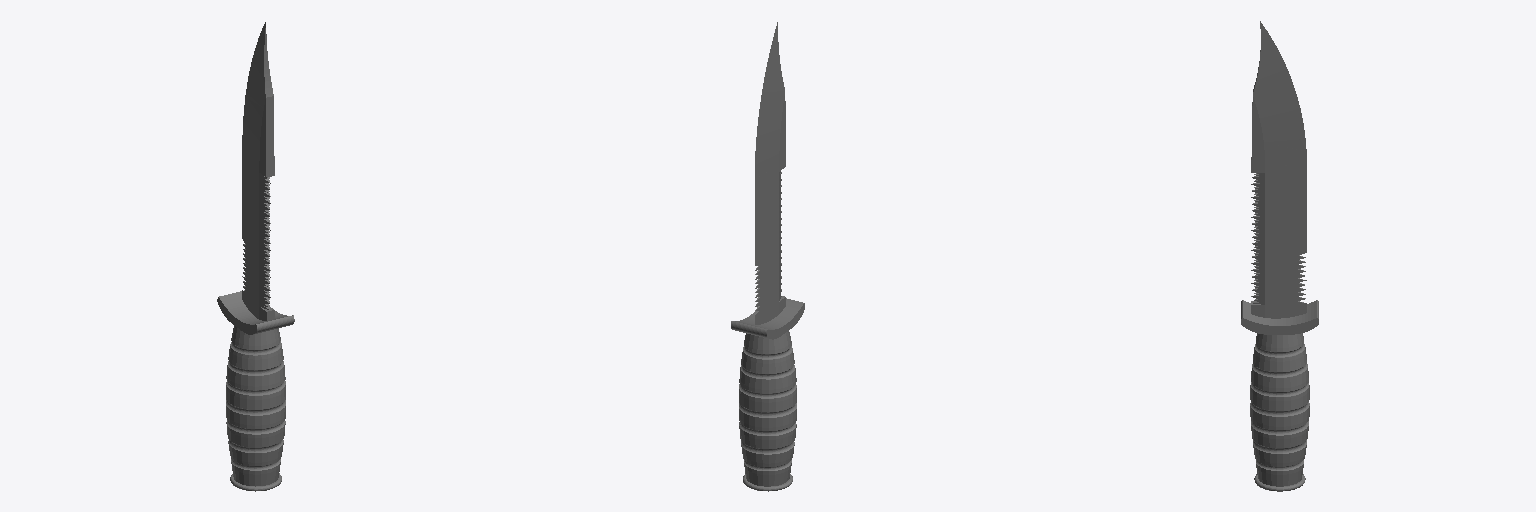
robot.urdf — object:
<?xml version="1.0"?>
<robot name="object">
  <link name="object">
    <visual>
      <origin xyz="0 0 0"/>
      <geometry>
        <mesh
          filename="../../mesh/oakink_virtual/knife_s223.stl" />
      </geometry>
      <material name="mat">
        <color rgba="0.5 0.5 0.5 1"/>
      </material>
    </visual>

    <collision>
      <origin xyz="0 0 0"/>
      <geometry>
        <mesh
          filename="../../mesh/oakink_virtual/knife_s223.stl" />
      </geometry>
    </collision>
  </link>
</robot>

--- Render facts (derived) ---
Views: 3 orthographic renders of the robot side by side, from view 1: azimuth 30°, elevation 25°; view 2: azimuth 150°, elevation 25°; view 3: azimuth 270°, elevation 25°.
Model object with 1 links and 0 joints (none), rooted at object, posed all joints at 0.
Visible links, largest first — view 1: object; view 2: object; view 3: object.
Link boxes in pixels (box(x1,y1,x2,y2)): object: box(217, 22, 294, 491); object: box(731, 22, 804, 491); object: box(1241, 21, 1318, 491).
Size in the robot's own frame: 0.0251 by 0.0332 by 0.2138 metres.
1 mesh visuals loaded from 1 distinct referenced files (1 binary STL).